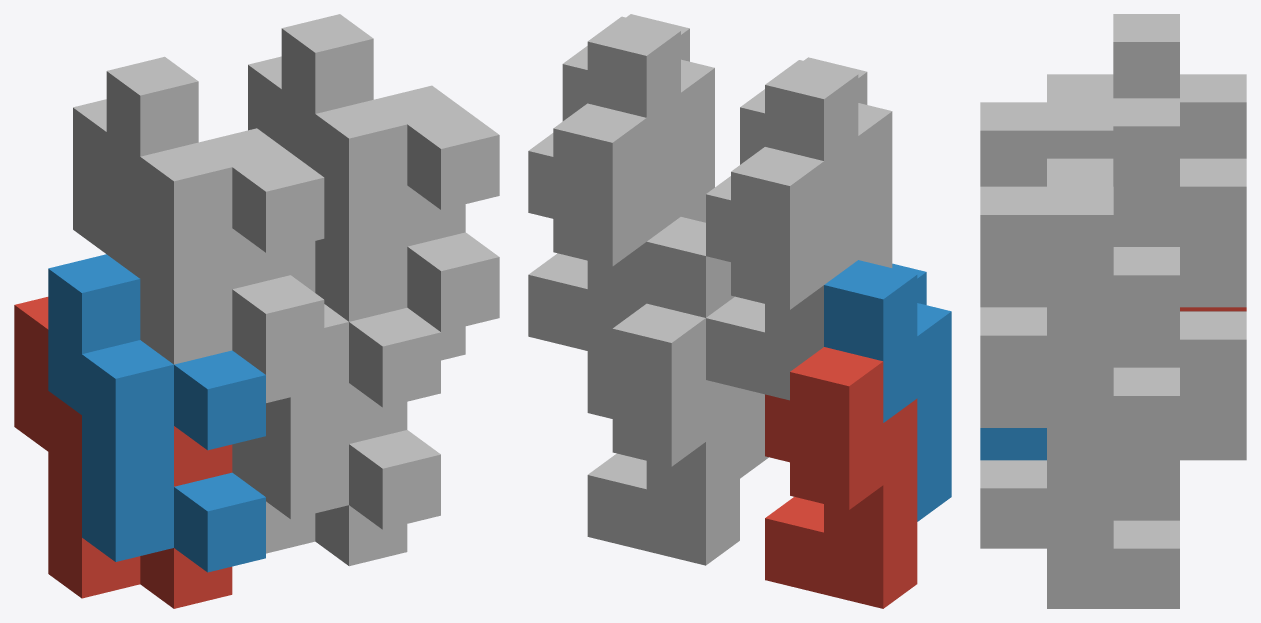
Rendered from tiling.obj.
The picture shows the model from 3 angles, left to right: view 1: azimuth 30°, elevation 25°; view 2: azimuth 150°, elevation 25°; view 3: azimuth 270°, elevation 25°; orthographic projection. The views are drawn at different scales.
Parts seen in each view (by area): view 1: copy_1_domain_4, copy_1_domain_8, copy_1_domain_2, copy_1_domain_6, copy_1_domain_1, copy_1_domain_3, copy_1_domain_5, copy_1_domain_7; view 2: copy_1_domain_1, copy_1_domain_5, copy_1_domain_7, copy_1_domain_3, copy_1_domain_4, copy_1_domain_2, copy_1_domain_8, copy_1_domain_6; view 3: copy_1_domain_8, copy_1_domain_7, copy_1_domain_5, copy_1_domain_4, copy_1_domain_6, copy_1_domain_3, copy_1_domain_2.
Part boxes in pixels (x1=…): copy_1_domain_4: x1=106, y1=56, x2=324, y2=374; copy_1_domain_8: x1=281, y1=14, x2=499, y2=332; copy_1_domain_2: x1=48, y1=254, x2=265, y2=572; copy_1_domain_6: x1=257, y1=241, x2=440, y2=529; copy_1_domain_1: x1=14, y1=297, x2=232, y2=608; copy_1_domain_3: x1=73, y1=99, x2=290, y2=402; copy_1_domain_5: x1=232, y1=383, x2=407, y2=566; copy_1_domain_7: x1=248, y1=56, x2=465, y2=360; copy_1_domain_1: x1=765, y1=347, x2=917, y2=608; copy_1_domain_5: x1=587, y1=303, x2=739, y2=565; copy_1_domain_7: x1=528, y1=103, x2=680, y2=356; copy_1_domain_3: x1=706, y1=147, x2=858, y2=400; copy_1_domain_4: x1=740, y1=57, x2=892, y2=267; copy_1_domain_2: x1=824, y1=260, x2=951, y2=521; copy_1_domain_8: x1=562, y1=14, x2=714, y2=222; copy_1_domain_6: x1=646, y1=217, x2=768, y2=478; copy_1_domain_8: x1=980, y1=98, x2=1179, y2=395; copy_1_domain_7: x1=1047, y1=158, x2=1246, y2=456; copy_1_domain_5: x1=1047, y1=311, x2=1246, y2=608; copy_1_domain_4: x1=980, y1=14, x2=1179, y2=307; copy_1_domain_6: x1=980, y1=396, x2=1113, y2=548; copy_1_domain_3: x1=1180, y1=74, x2=1246, y2=158; copy_1_domain_2: x1=980, y1=428, x2=1046, y2=460.
Bounding box in the file's own units: 6 × 8 × 4.
